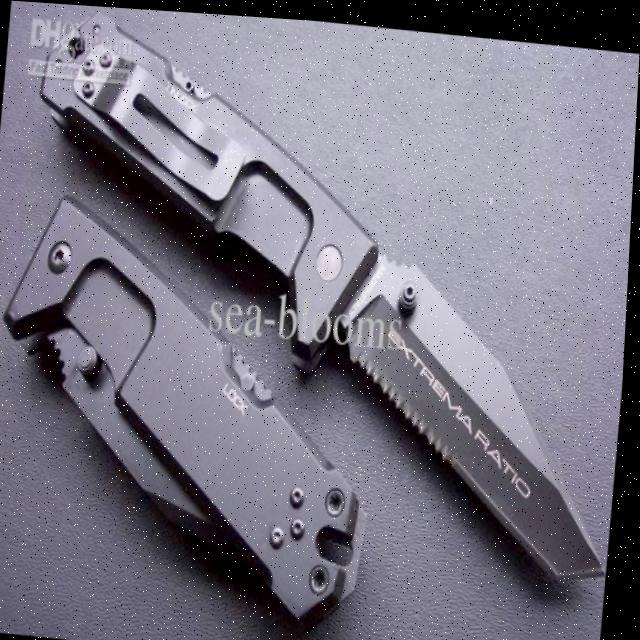knife: (8, 8, 640, 581), (0, 182, 393, 621)
